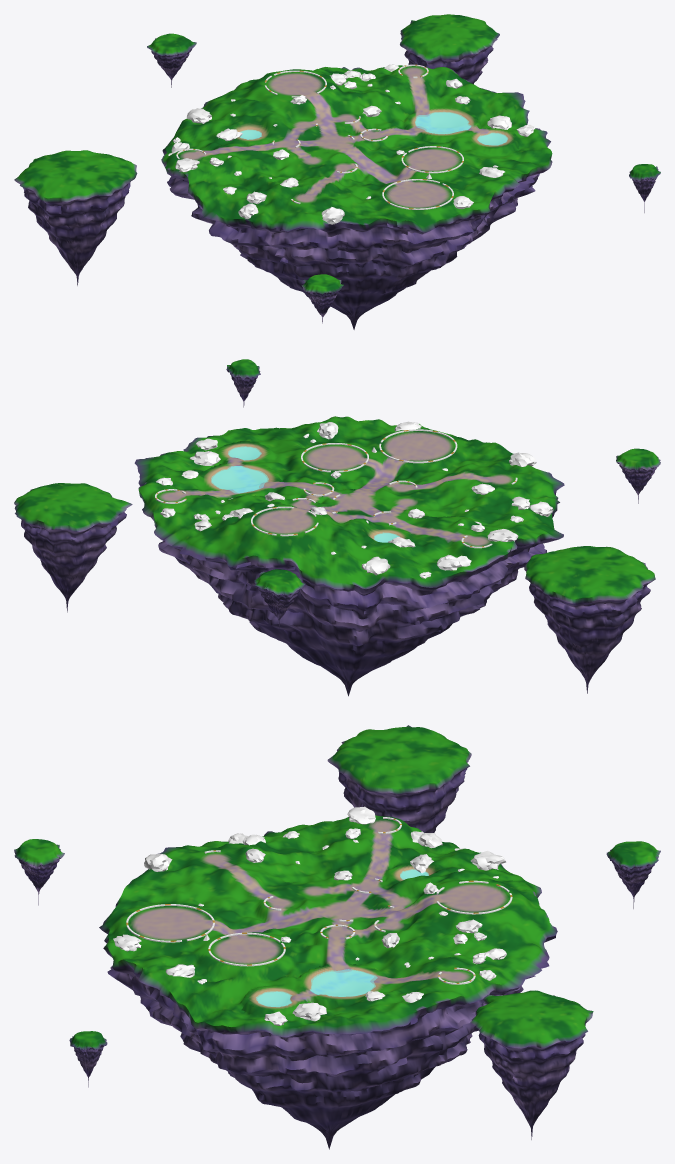
The model's file is 20261119-123853__Exports__glTF__CB_Terreno.glb.
3 renders of one model, top to bottom at view 1: azimuth 30°, elevation 25°; view 2: azimuth 150°, elevation 25°; view 3: azimuth 270°, elevation 25°, orthographic. The views are drawn at different scales.
Parts seen in each view (by area): view 1: CB_Terreno_Ilha_Terreno, CB_Terreno_ObsIsland_Terreno, CB_Terreno_AltarIsland_Terreno, CB_Terreno_Afloramentos_PedraLilas, CB_Terreno_Lagos_Agua, CB_Terreno_Ilhota3_Terreno, CB_Terreno_Ilhota1_Terreno, CB_Terreno_Muretas_PedraLilas, CB_Terreno_Ilhota2_Terreno, CB_Terreno_Muretas_PedraPerolada; view 2: CB_Terreno_Ilha_Terreno, CB_Terreno_ObsIsland_Terreno, CB_Terreno_AltarIsland_Terreno, CB_Terreno_Afloramentos_PedraLilas, CB_Terreno_Lagos_Agua, CB_Terreno_Ilhota3_Terreno, CB_Terreno_Ilhota1_Terreno, CB_Terreno_Muretas_PedraLilas, CB_Terreno_Ilhota2_Terreno, CB_Terreno_Muretas_PedraPerolada; view 3: CB_Terreno_Ilha_Terreno, CB_Terreno_ObsIsland_Terreno, CB_Terreno_AltarIsland_Terreno, CB_Terreno_Afloramentos_PedraLilas, CB_Terreno_Lagos_Agua, CB_Terreno_Ilhota3_Terreno, CB_Terreno_Ilhota1_Terreno, CB_Terreno_Muretas_PedraLilas, CB_Terreno_Ilhota2_Terreno, CB_Terreno_Muretas_PedraPerolada.
Part boxes in pixels (x1,y1,x2,y2): CB_Terreno_Ilha_Terreno: (161,65,552,329); CB_Terreno_ObsIsland_Terreno: (14,150,137,285); CB_Terreno_AltarIsland_Terreno: (400,14,499,84); CB_Terreno_Afloramentos_PedraLilas: (168,64,535,224); CB_Terreno_Lagos_Agua: (240,112,507,145); CB_Terreno_Ilhota3_Terreno: (147,33,196,87); CB_Terreno_Ilhota1_Terreno: (301,274,343,323); CB_Terreno_Muretas_PedraLilas: (176,64,463,209); CB_Terreno_Ilhota2_Terreno: (629,164,660,212); CB_Terreno_Muretas_PedraPerolada: (177,65,463,209); CB_Terreno_Ilha_Terreno: (134,416,564,696); CB_Terreno_ObsIsland_Terreno: (524,546,655,693); CB_Terreno_AltarIsland_Terreno: (14,483,132,612); CB_Terreno_Afloramentos_PedraLilas: (156,421,553,578); CB_Terreno_Lagos_Agua: (211,446,399,542); CB_Terreno_Ilhota3_Terreno: (254,569,305,627); CB_Terreno_Ilhota1_Terreno: (616,448,660,503); CB_Terreno_Muretas_PedraLilas: (155,429,517,547); CB_Terreno_Ilhota2_Terreno: (226,359,260,407); CB_Terreno_Muretas_PedraPerolada: (155,430,517,548); CB_Terreno_Ilha_Terreno: (99,815,557,1149); CB_Terreno_ObsIsland_Terreno: (327,725,471,832); CB_Terreno_AltarIsland_Terreno: (470,990,593,1139); CB_Terreno_Afloramentos_PedraLilas: (113,806,506,1025); CB_Terreno_Lagos_Agua: (256,869,428,1006); CB_Terreno_Ilhota3_Terreno: (606,841,660,908); CB_Terreno_Ilhota1_Terreno: (14,839,64,905); CB_Terreno_Muretas_PedraLilas: (126,817,512,983); CB_Terreno_Ilhota2_Terreno: (69,1031,107,1087); CB_Terreno_Muretas_PedraPerolada: (127,818,511,984).
Bounding box in the file's own units: 527 × 207 × 457.
